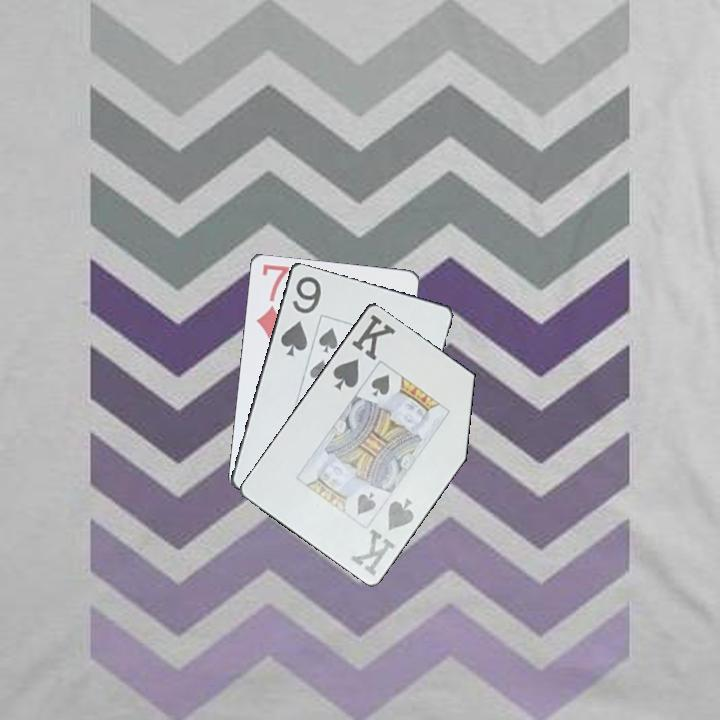7d: (252, 260, 292, 341)
9s: (277, 272, 324, 359)
Ks: (347, 494, 417, 578), (329, 310, 399, 393)
